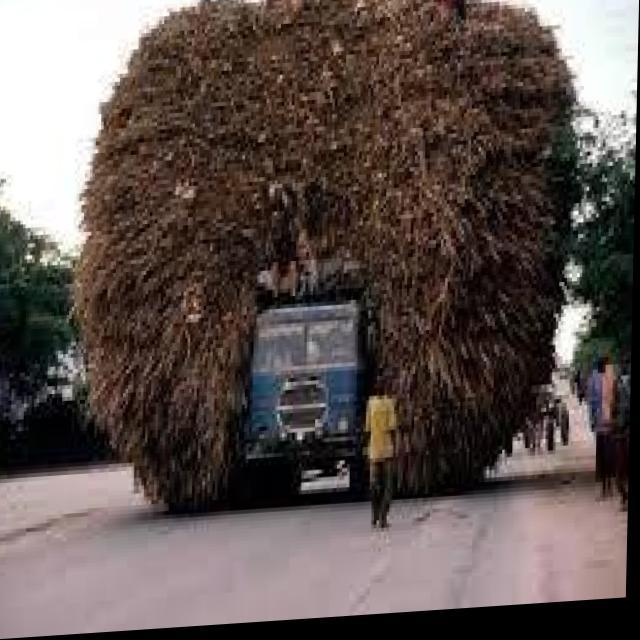uncovered: (69, 0, 585, 542)
